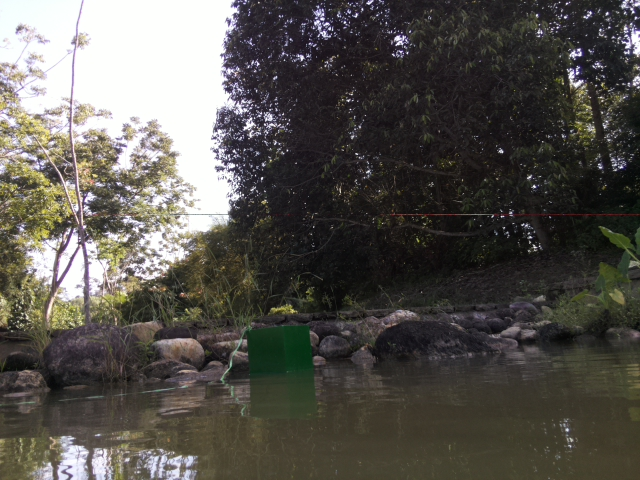obstacle: (245, 324, 314, 379)
